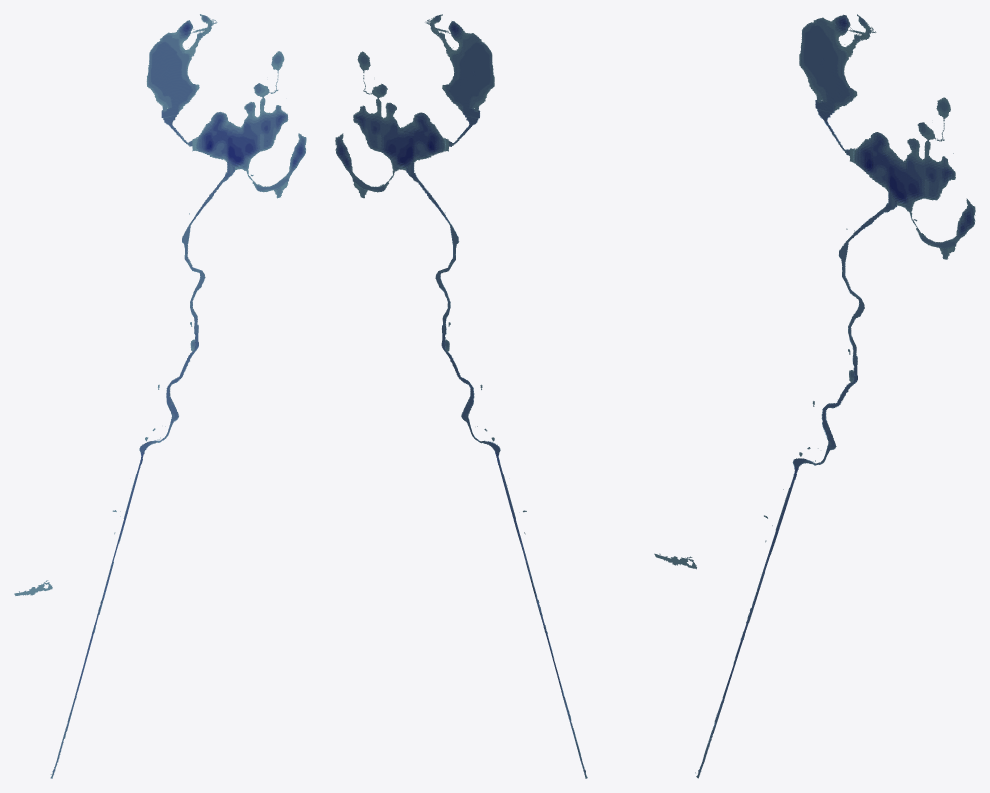
File: triangle_mesh.glb
3 renders of one model, left to right at view 1: azimuth 30°, elevation 25°; view 2: azimuth 150°, elevation 25°; view 3: azimuth 330°, elevation 25°, orthographic. The views are drawn at different scales.
Parts seen in each view (by area): view 1: world; view 2: world; view 3: world.
Part boxes in pixels (box(x1,y1,x2,y2)): world: box(14, 14, 306, 778); world: box(335, 14, 587, 778); world: box(654, 14, 975, 778).
Size of the model in its own units: 1147 by 2739 by 13.97.
